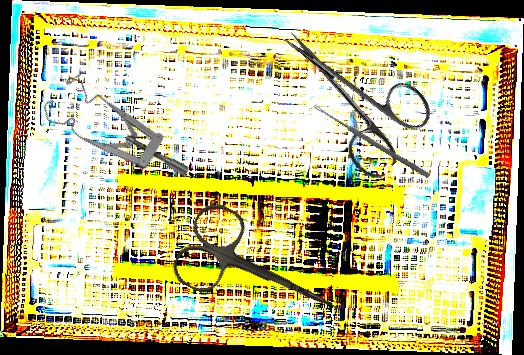Iris Scissors: (253, 1, 442, 185), (167, 197, 357, 350)
Speculum: (34, 51, 192, 223)
Surgical Spoon: (312, 103, 431, 179)
